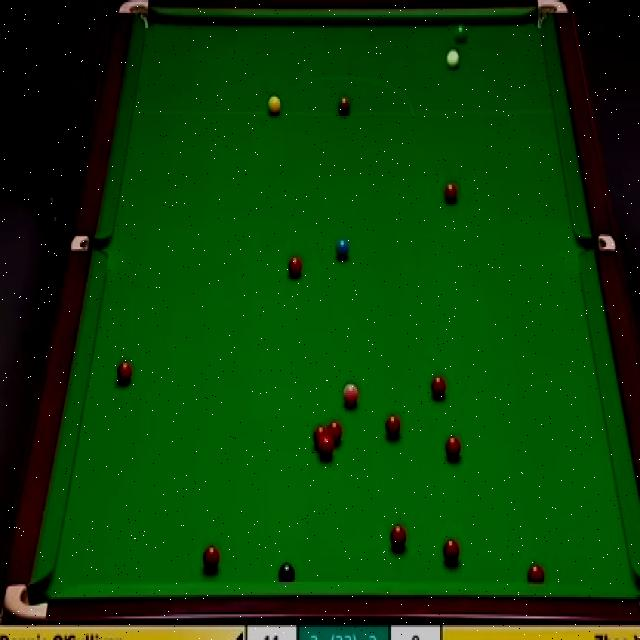black-ball: (278, 559, 296, 584)
blue-ball: (334, 236, 350, 262)
brown-ball: (336, 93, 351, 117)
green-ball: (453, 20, 470, 41)
pink-ball: (342, 378, 360, 408)
red-ball: (115, 358, 134, 388), (430, 373, 448, 403), (389, 523, 407, 551), (442, 538, 459, 566), (444, 432, 461, 460), (384, 413, 401, 440), (442, 180, 458, 208), (203, 544, 220, 570), (288, 254, 304, 280), (328, 421, 343, 447), (528, 562, 545, 583), (314, 425, 328, 447), (320, 438, 334, 459)
white-ball: (445, 46, 461, 71)
yellow-ball: (267, 93, 281, 115)
